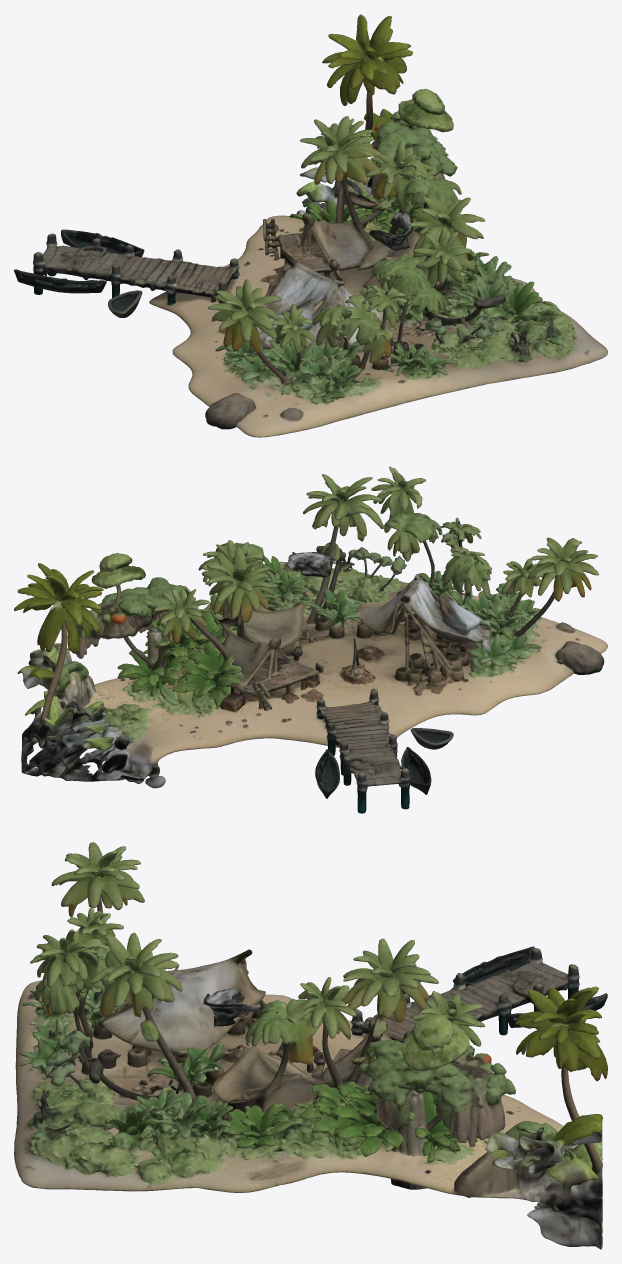
The model's file is Tropical Pirate Island.glb.
3 renders of one model, top to bottom at view 1: azimuth 30°, elevation 25°; view 2: azimuth 150°, elevation 25°; view 3: azimuth 270°, elevation 25°, orthographic. The views are drawn at different scales.
Parts seen in each view (by area): view 1: geometry_0; view 2: geometry_0; view 3: geometry_0.
Boxes of the visible parts, box(x1,y1,x2,y2) form: geometry_0: box(14, 14, 607, 437); geometry_0: box(14, 466, 607, 813); geometry_0: box(14, 842, 607, 1249).
Bounding box in the file's own units: 0.9633 × 0.4631 × 1.
1 material, 1 textured.
